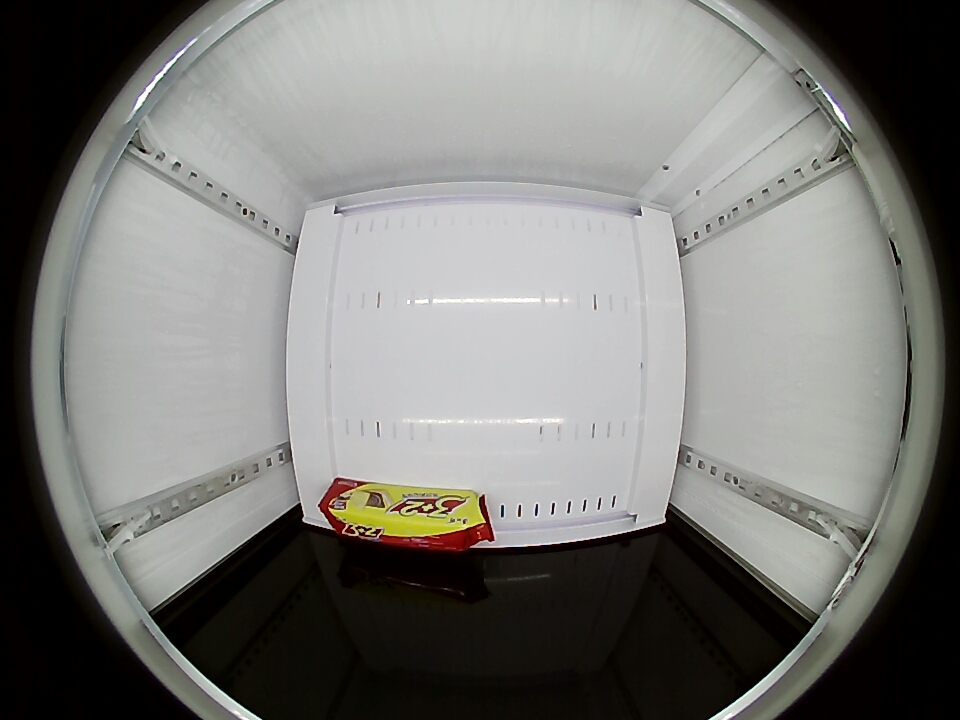3jia2: (320, 483, 493, 551)
